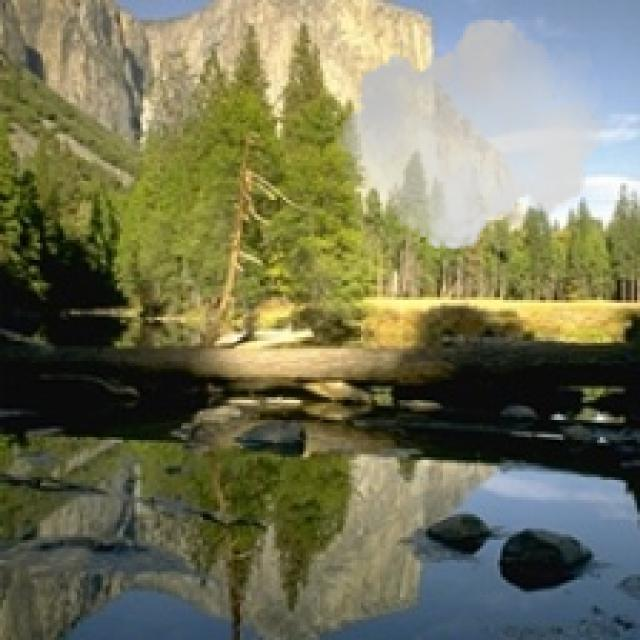smoke: (334, 9, 609, 260)
